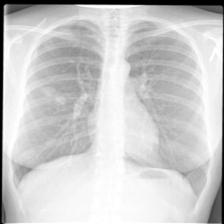tuberculosis: (4, 16, 212, 224)
